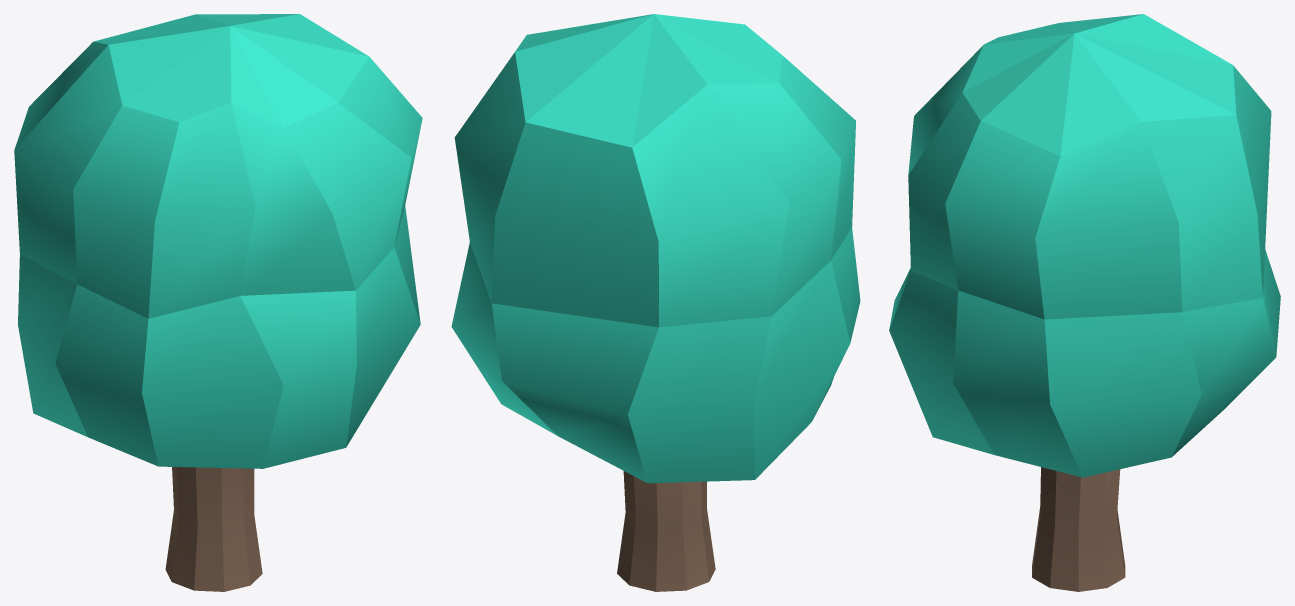
File: tree04.fbx
The picture shows the model from 3 angles, left to right: view 1: azimuth 30°, elevation 25°; view 2: azimuth 150°, elevation 25°; view 3: azimuth 270°, elevation 25°; orthographic projection.
Visible parts, largest first — view 1: group2, pCylinder2; view 2: group2, pCylinder2; view 3: group2, pCylinder2.
Part boxes in pixels (box(x1,y1,x2,y2)): group2: box(14, 14, 422, 468); pCylinder2: box(165, 467, 262, 591); group2: box(451, 14, 860, 483); pCylinder2: box(617, 471, 715, 591); group2: box(889, 14, 1280, 477); pCylinder2: box(1032, 467, 1125, 591).
Bounding box in the file's own units: 260 × 378 × 246.
